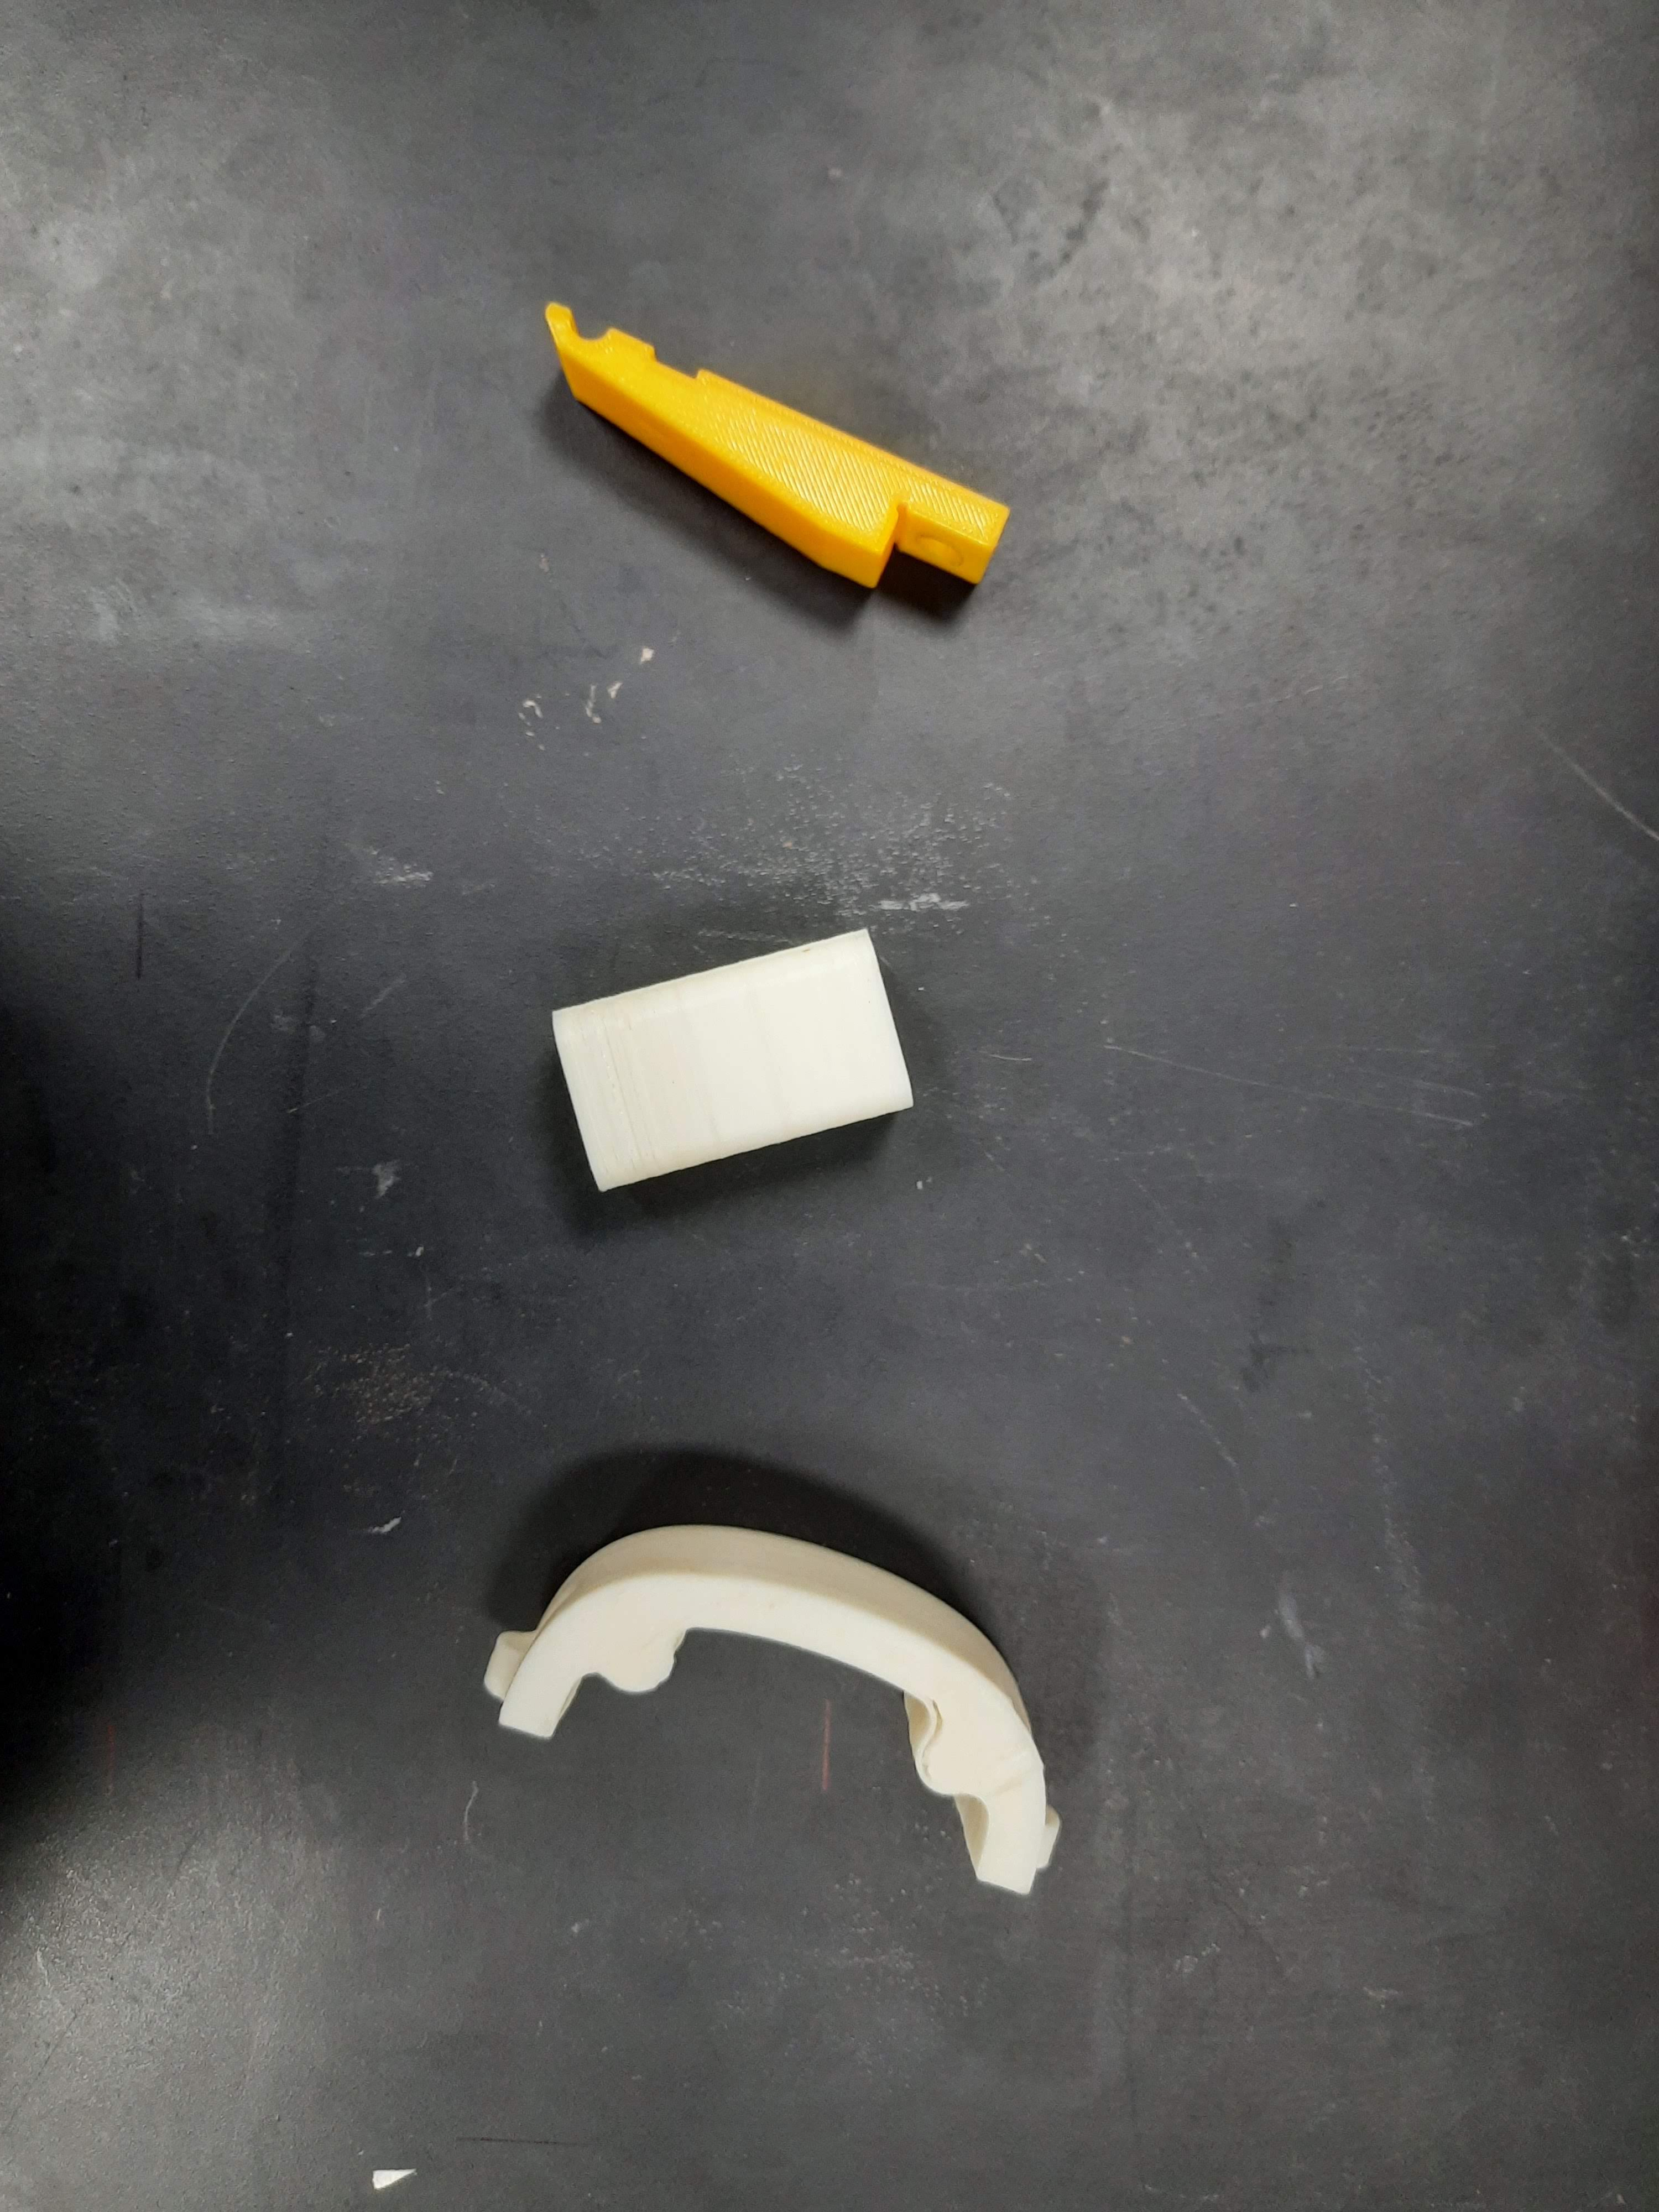ARC: (465, 1451, 1126, 1902)
CUBE: (551, 930, 911, 1188)
YELLOW: (481, 298, 1019, 632)
